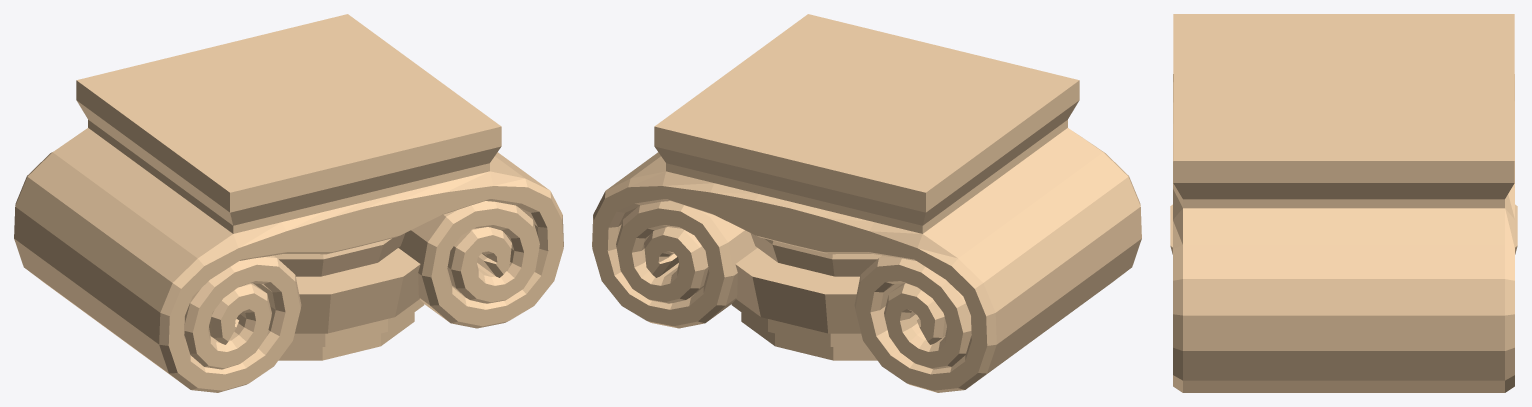
Rendered from column-head.fbx.
3 renders of one model, left to right at view 1: azimuth 30°, elevation 25°; view 2: azimuth 150°, elevation 25°; view 3: azimuth 270°, elevation 25°, orthographic. The views are drawn at different scales.
Parts seen in each view (by area): view 1: column-head; view 2: column-head; view 3: column-head.
Boxes of the visible parts, bbox=[...] form: column-head: bbox=[14, 14, 563, 392]; column-head: bbox=[592, 14, 1141, 392]; column-head: bbox=[1170, 14, 1517, 392].
Size of the model in its own units: 103 by 49.83 by 69.25.
1 material, 1 textured.
